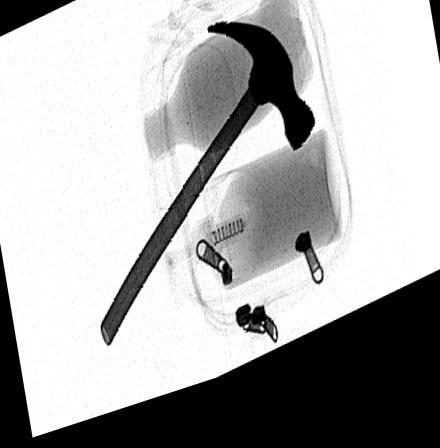Hammer: (99, 34, 316, 355)
